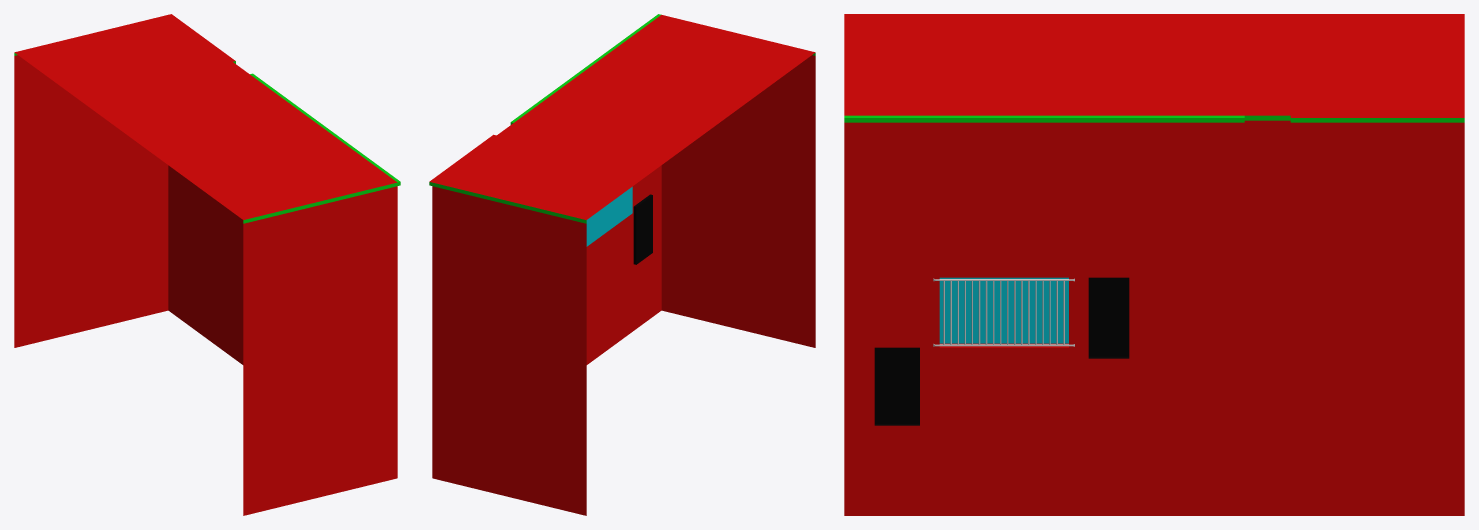
The model's file is Building D.fbx.
3 views of the same model, side by side, from view 1: azimuth 30°, elevation 25°; view 2: azimuth 150°, elevation 25°; view 3: azimuth 270°, elevation 25° (orthographic). The views are drawn at different scales.
Parts seen in each view (by area): view 1: Building D; view 2: Building D; view 3: Building D.
Boxes of the visible parts, bbox=[...] form: Building D: bbox=[14, 14, 400, 515]; Building D: bbox=[429, 14, 815, 515]; Building D: bbox=[844, 14, 1464, 515].
Bounding box in the file's own units: 6.12 × 11 × 15.45.
